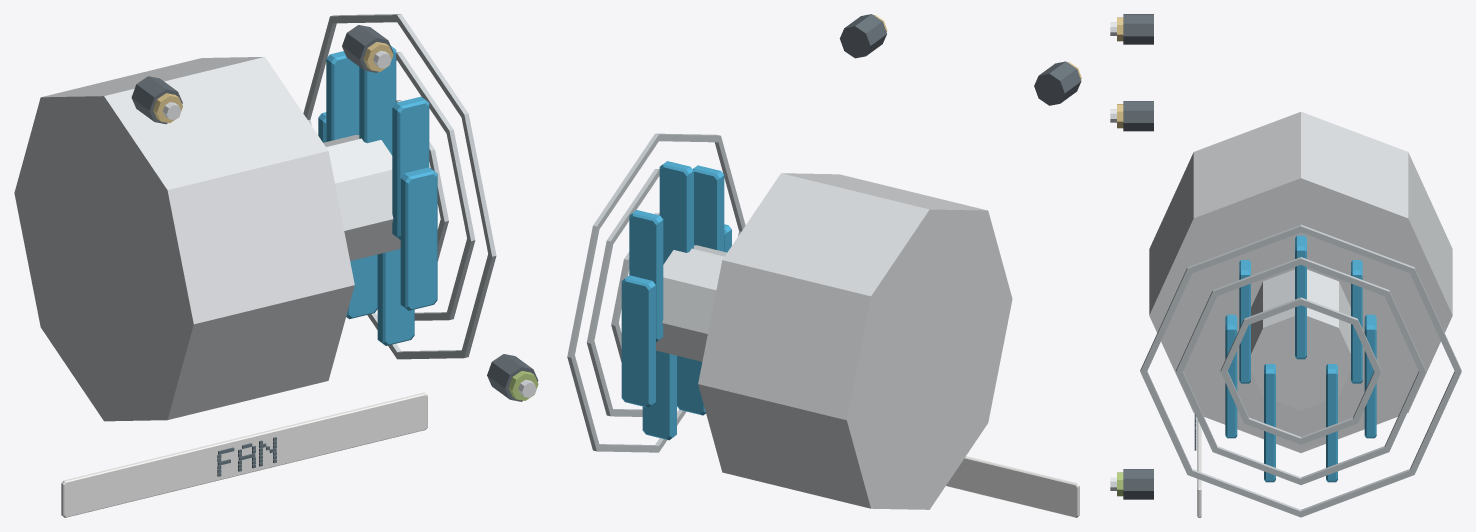
The model's file is fan.glb.
The picture shows the model from 3 angles, left to right: view 1: azimuth 30°, elevation 25°; view 2: azimuth 150°, elevation 25°; view 3: azimuth 270°, elevation 25°; orthographic projection. The views are drawn at different scales.
Parts seen in each view (by area): view 1: fan-board; view 2: fan-board; view 3: fan-board.
Boxes of the visible parts, left/top/right/bottom form: fan-board: left=14, top=14, right=538, bottom=517; fan-board: left=567, top=14, right=1081, bottom=517; fan-board: left=1110, top=14, right=1461, bottom=517.
Size of the model in its own units: 2.48 by 2.45 by 2.07.
